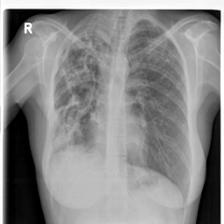tuberculosis: (41, 18, 198, 212)
